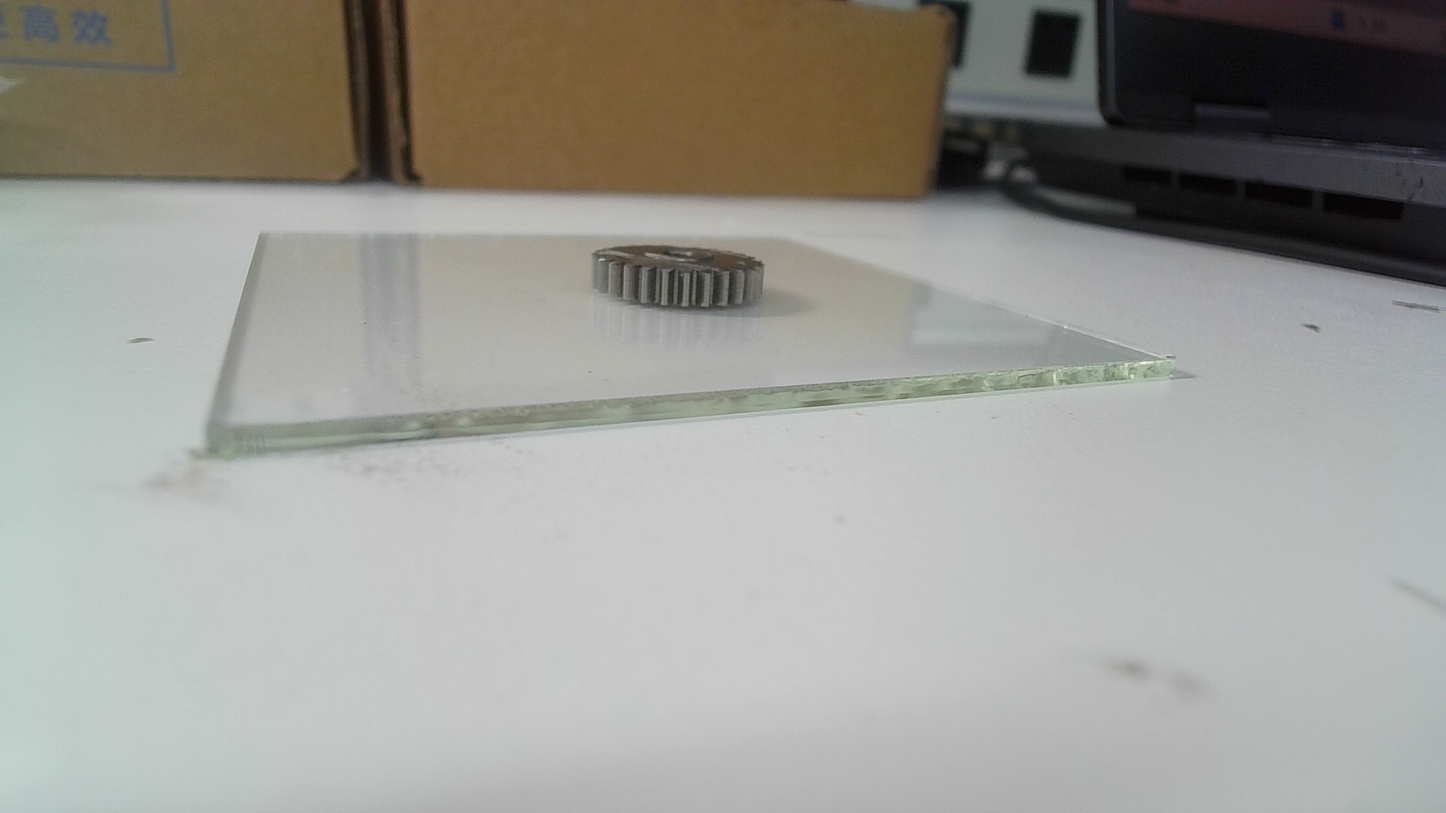gear: (589, 242, 770, 313)
